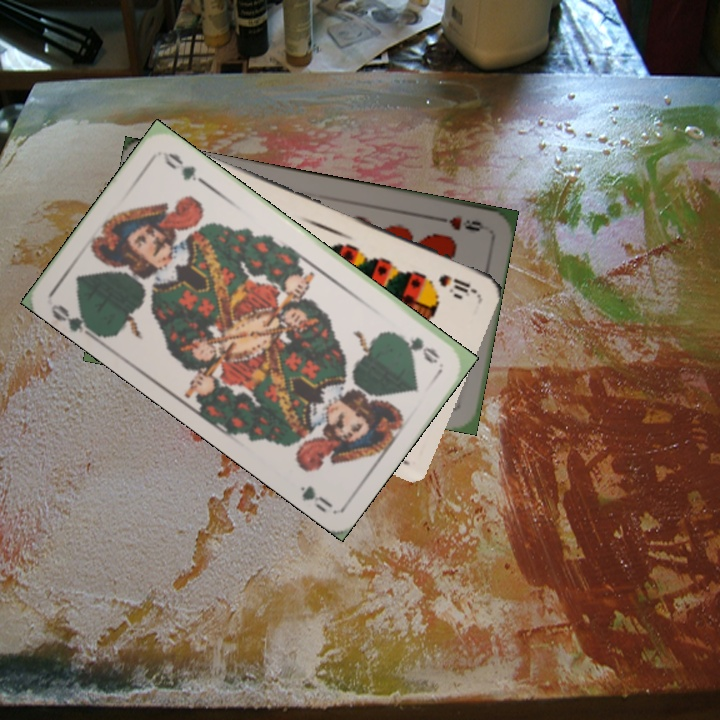GO: (47, 300, 101, 342), (390, 328, 442, 367)
H9: (430, 212, 489, 234)
S10: (434, 270, 477, 298)
